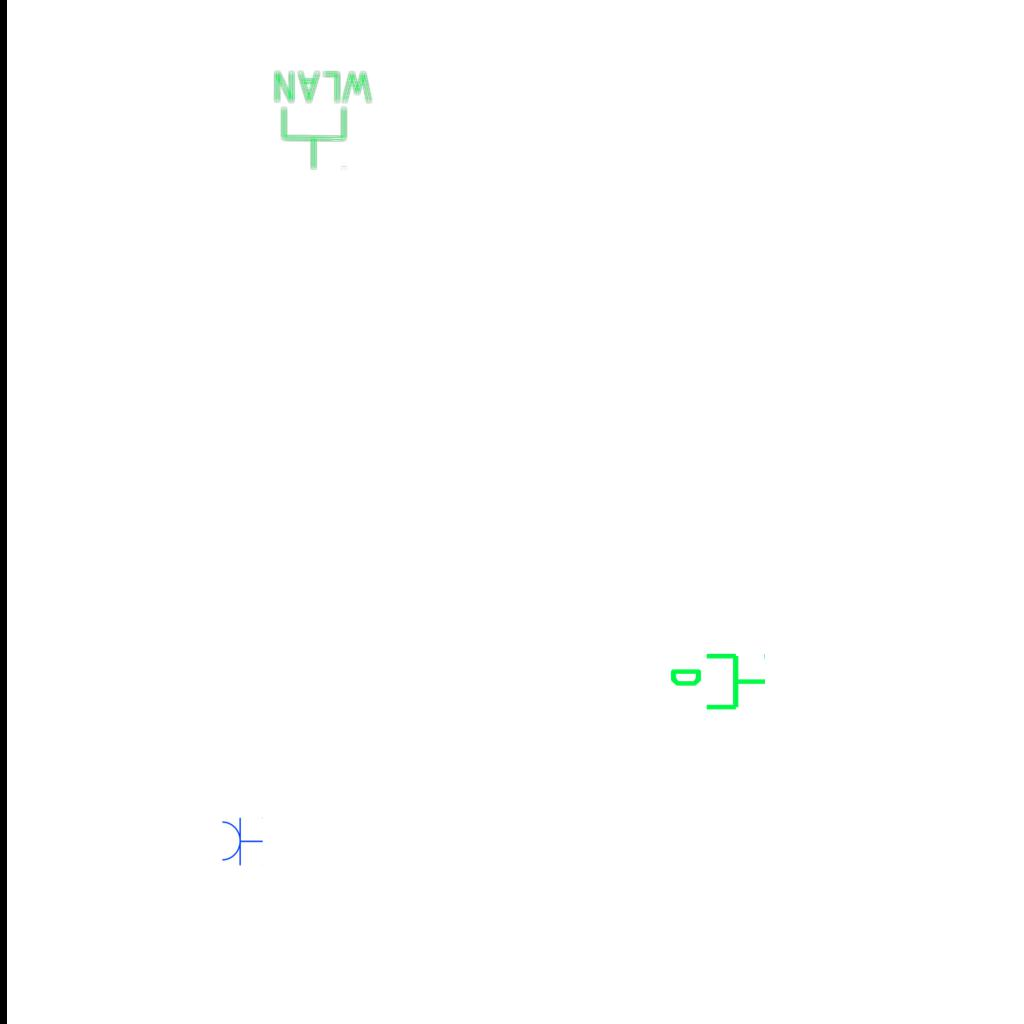Datenanschluss_einfach: (668, 649, 768, 718)
Schukosteckdose_einfach: (220, 816, 263, 866)
WLAN: (271, 68, 376, 172)
